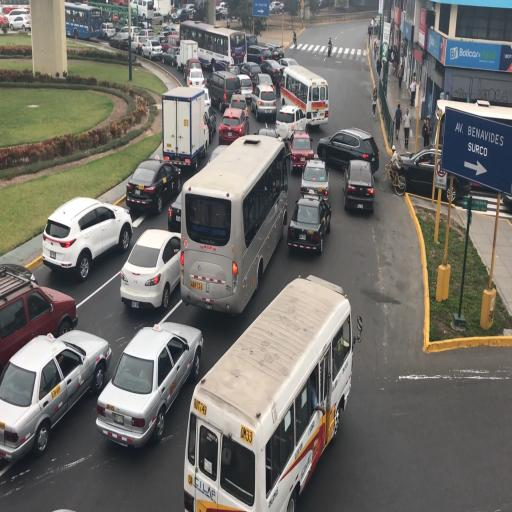auto: (2, 330, 111, 466), (96, 320, 200, 445), (1, 262, 76, 389), (42, 193, 131, 279), (186, 409, 255, 510), (119, 228, 184, 312), (390, 145, 474, 203), (126, 156, 182, 217), (318, 127, 372, 174), (342, 159, 373, 215), (208, 70, 243, 112), (300, 156, 328, 202), (218, 107, 250, 147), (288, 128, 314, 174), (275, 105, 304, 145), (250, 82, 276, 121), (259, 59, 282, 87), (162, 32, 182, 63), (246, 44, 272, 66), (141, 38, 163, 60), (129, 32, 148, 52), (10, 13, 31, 31), (263, 43, 284, 61), (278, 57, 298, 75), (120, 24, 139, 42), (216, 2, 229, 18), (269, 0, 282, 14), (186, 4, 196, 18)
bus: (433, 99, 512, 216), (162, 86, 208, 177), (178, 38, 198, 75)
camion: (327, 42, 332, 56)
moto: (185, 280, 345, 505), (180, 132, 285, 308), (181, 20, 242, 74), (279, 63, 327, 130), (66, 3, 102, 41), (131, 0, 161, 24)
